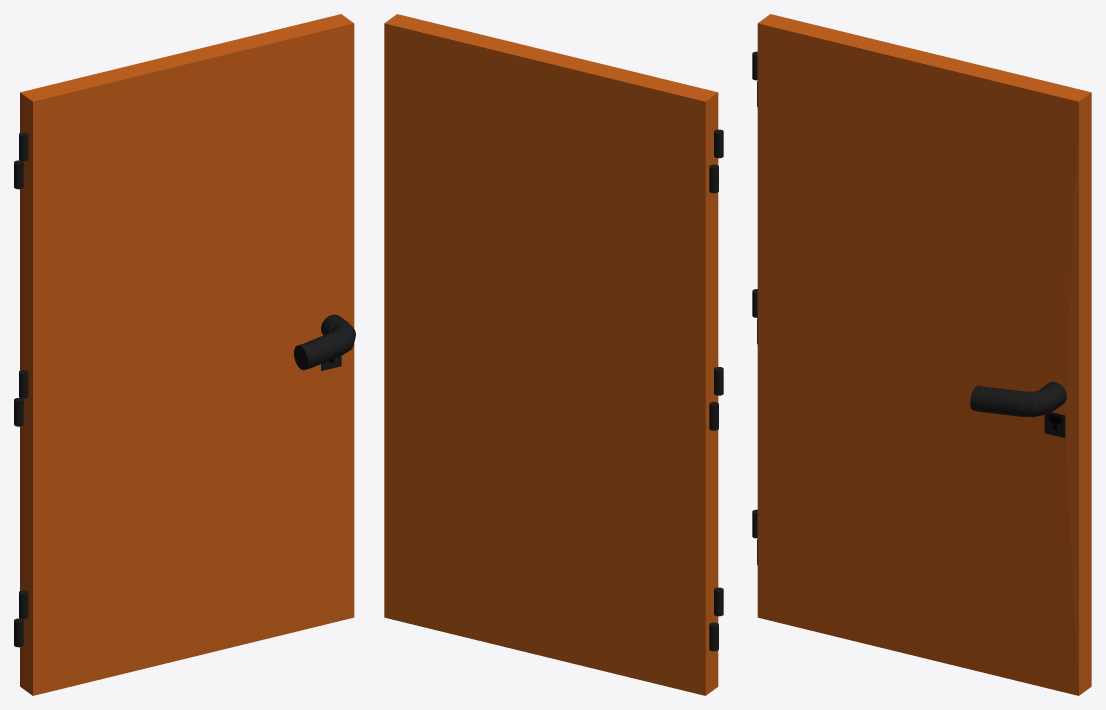
File: low poly door.fbx
The picture shows the model from 3 angles, left to right: view 1: azimuth 30°, elevation 25°; view 2: azimuth 150°, elevation 25°; view 3: azimuth 330°, elevation 25°; orthographic projection.
Visible parts, largest first — view 1: Cube (×2); view 2: Cube (×2); view 3: Cube (×2).
Boxes of the visible parts, bbox=[...] form: Cube (×2): bbox=[14, 14, 355, 695]; Cube (×2): bbox=[384, 14, 723, 695]; Cube (×2): bbox=[752, 14, 1091, 695].
Bounding box in the file's own units: 2.06 × 3.54 × 0.4752.
